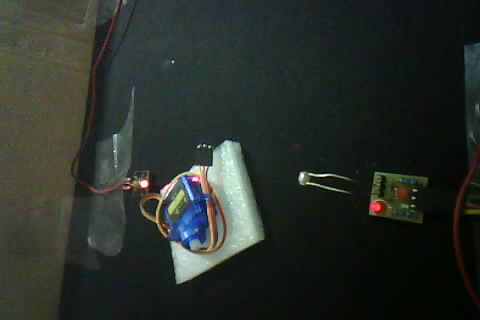motor: (156, 139, 263, 280)
